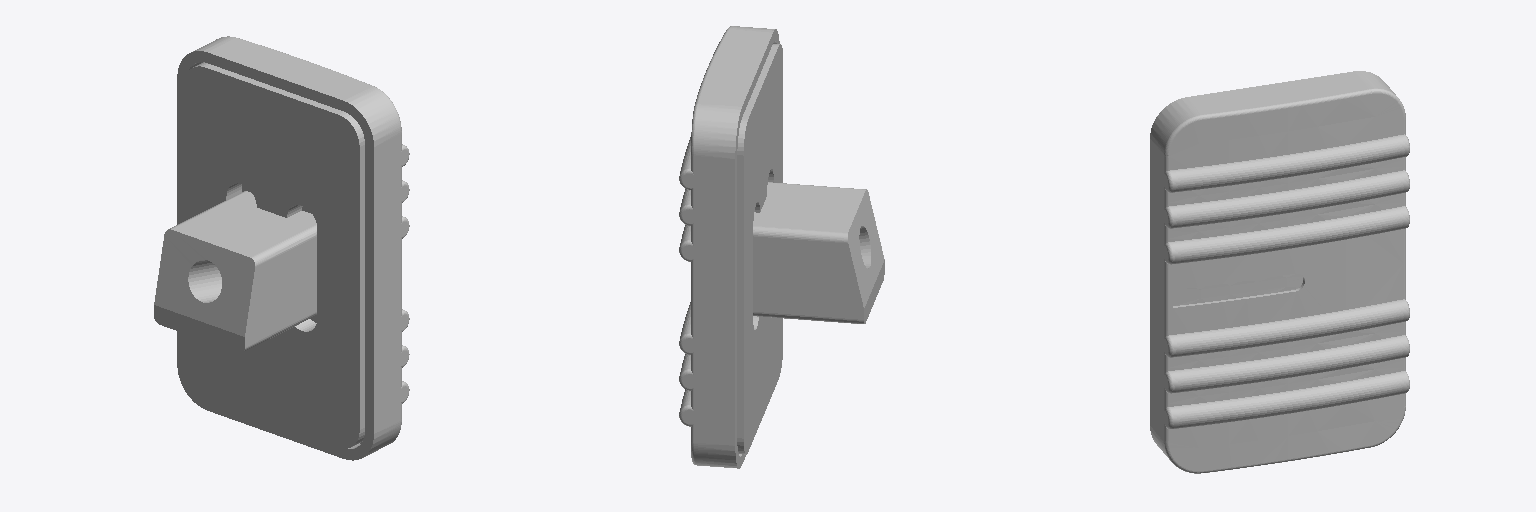
File: ase022_E_key_4.obj
3 views of the same model, side by side, from view 1: azimuth 30°, elevation 25°; view 2: azimuth 150°, elevation 25°; view 3: azimuth 270°, elevation 25° (orthographic).
Visible parts, largest first — view 1: object 1; view 2: object 1; view 3: object 1.
Part boxes in pixels (x1,y1,x2,y2): object 1: (154,36,409,460); object 1: (679,26,884,468); object 1: (1150,71,1409,473).
Bounding box in the file's own units: 5.79 × 10 × 6.58.